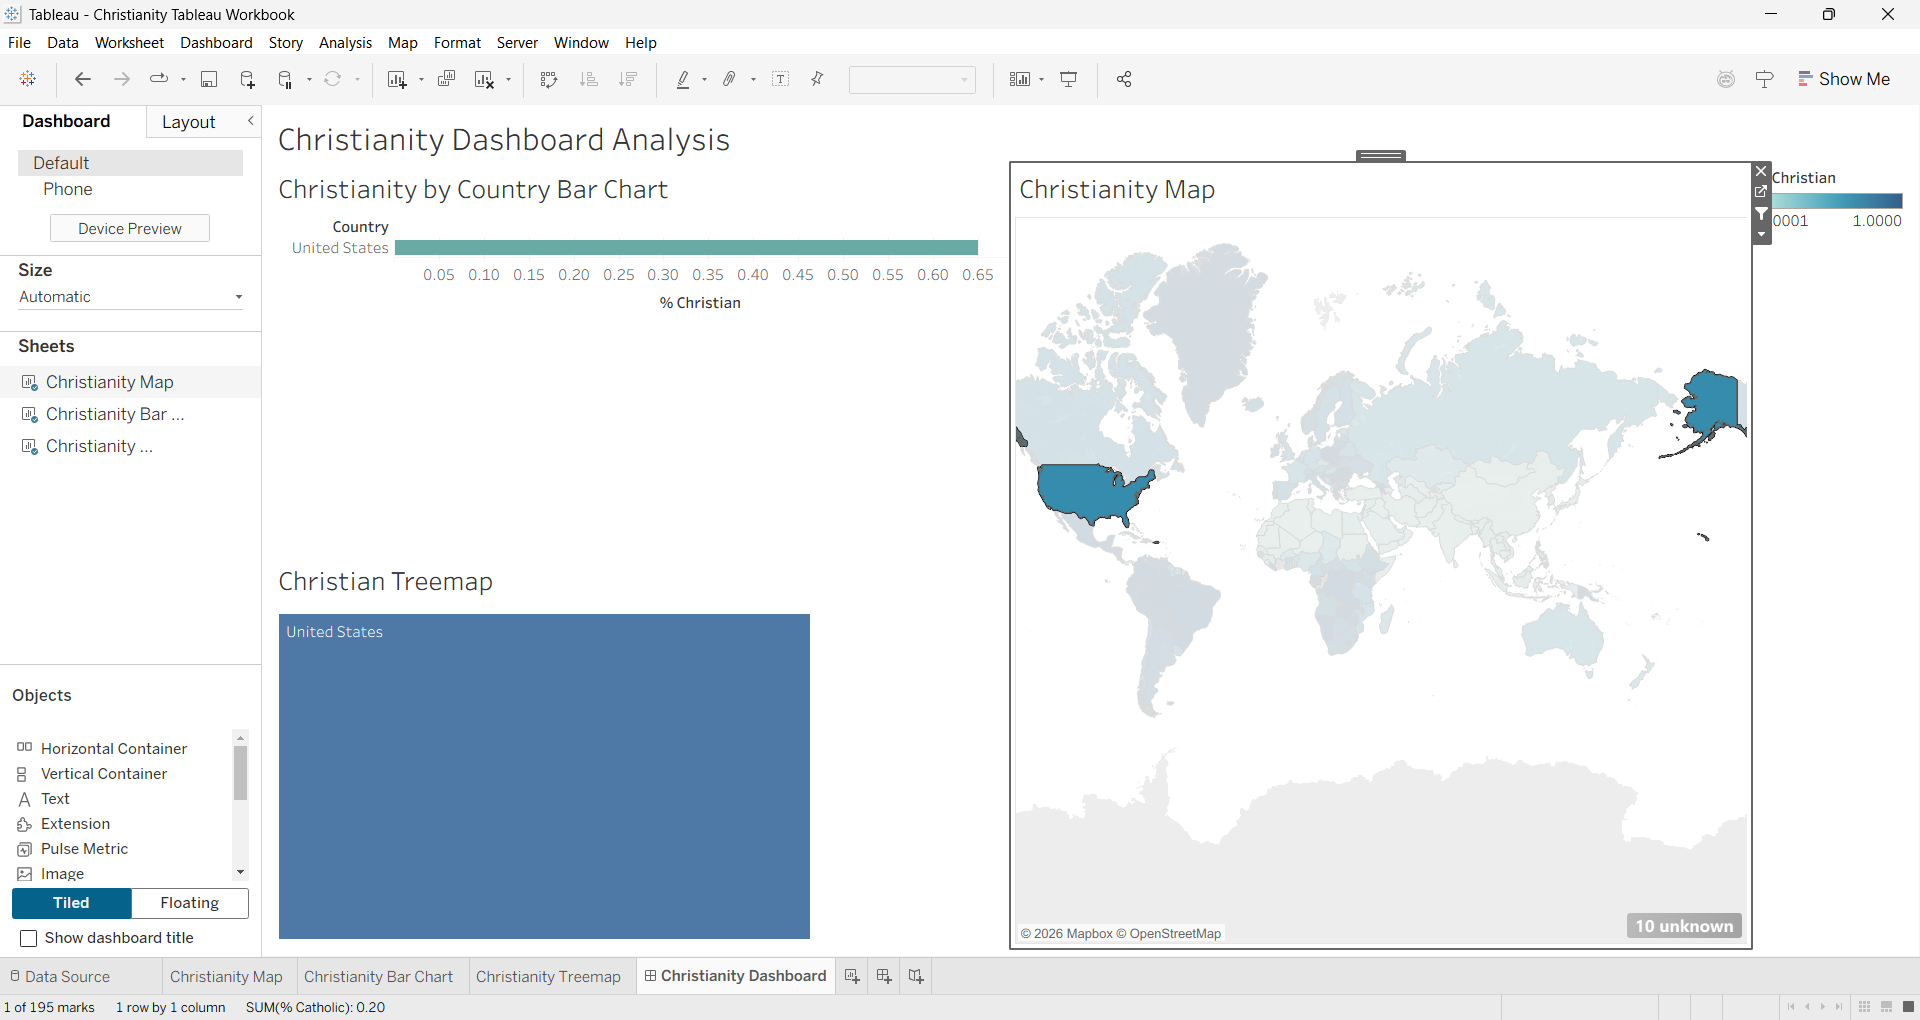

What the dashboard file says about the page in this screenshot:
{"tool":"tableau","page":{"name":"Christianity Dashboard","canvas":[1000,1000],"units":"permille","ordinal":0},"visuals":[{"type":"title","box":[4.8,10,990.3,62.4]},{"type":"worksheet","title":"Christianity Bar Chart","mark":"Automatic","rows":["Country"],"cols":["% Christian"],"box":[4.8,72.4,446.9,458.8]},{"type":"worksheet","title":"Christianity Map","mark":"Automatic","box":[451.7,72.4,446.9,917.6]},{"type":"legend","title":"Christianity Map","param":"[federated.0ijpeps0okwqx31eo8utk0e2oled].[sum:% Christian:qk]","box":[898.6,72.4,96.6,91.1]},{"type":"worksheet","title":"Christianity Treemap","mark":"Automatic","box":[4.8,531.2,446.9,458.8]}]}

Visuals, with their boxes on the dashboard's canvas, which has no fixed pixel size, in thousandths of its width and height (x1, y1, x2, y2). These are canvas units, not pixel positions in the 1920x1020 screenshot, which may show the page scaled, cropped or inside an application window:
title: crop(5, 10, 995, 72)
"Christianity Bar Chart" worksheet: crop(5, 72, 452, 531)
"Christianity Map" worksheet: crop(452, 72, 899, 990)
"Christianity Map" legend: crop(899, 72, 995, 164)
"Christianity Treemap" worksheet: crop(5, 531, 452, 990)
